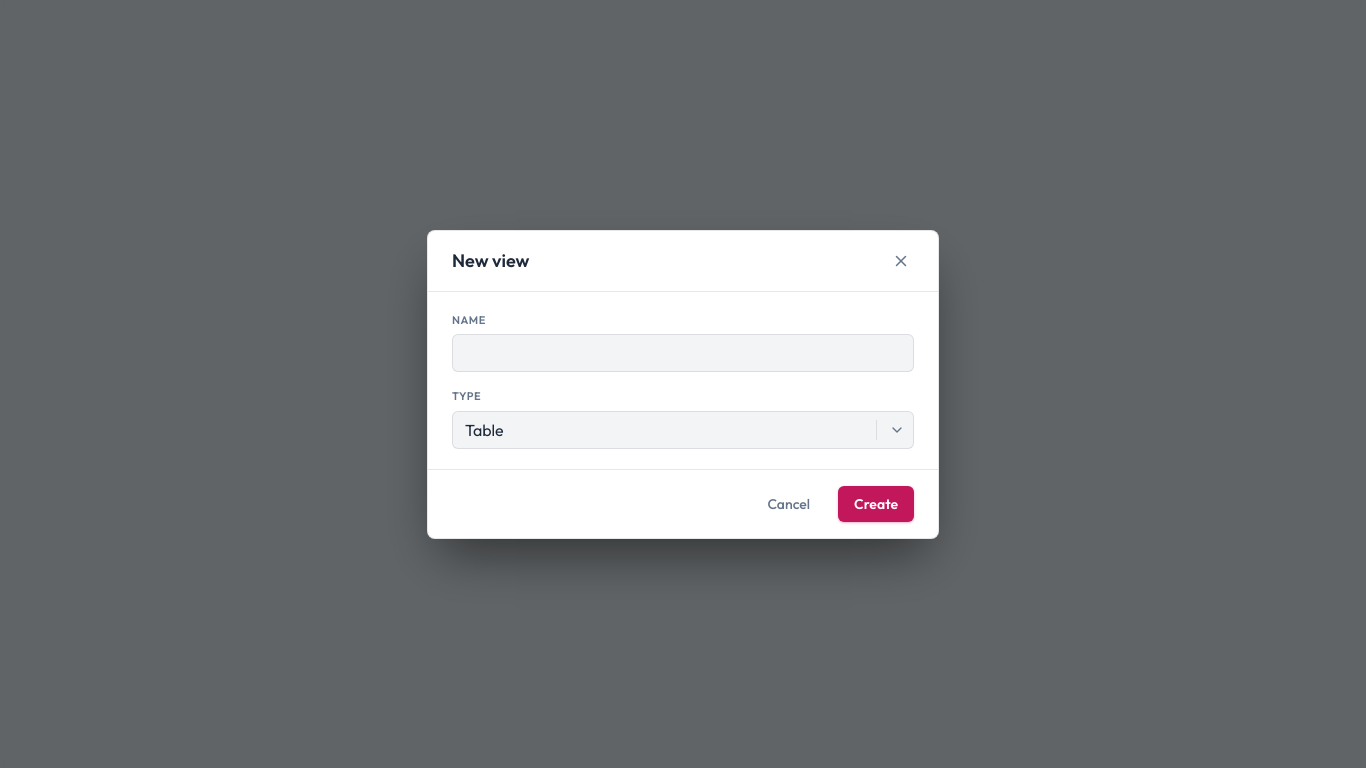
Scenario: ViewModal › requires the groupBy anchor on BOARD views and shows it inline
The image size is (1366, 768).
Type "Kanban" into the field labelled "Name" at (683, 353), box [452,334,914,372]
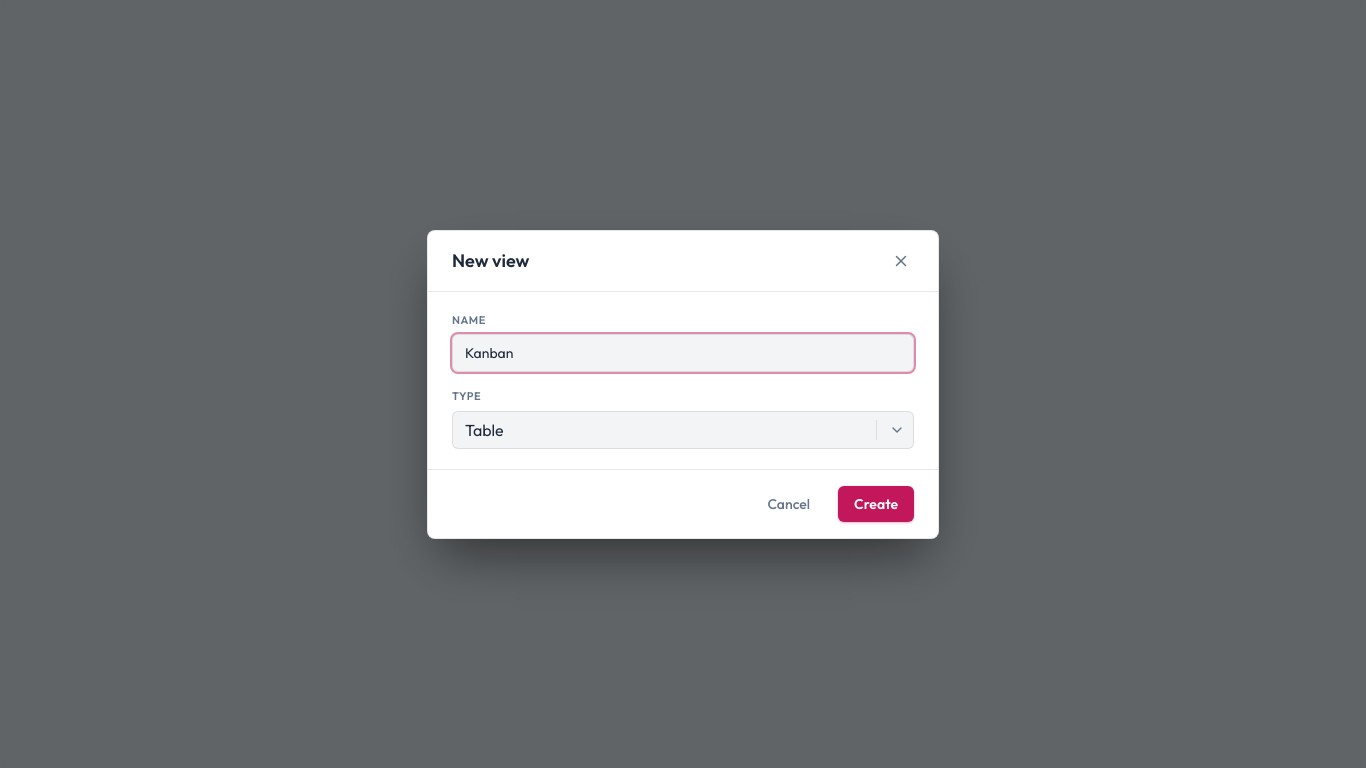
Click the dropdown at (467, 430), box [465,418,468,442]
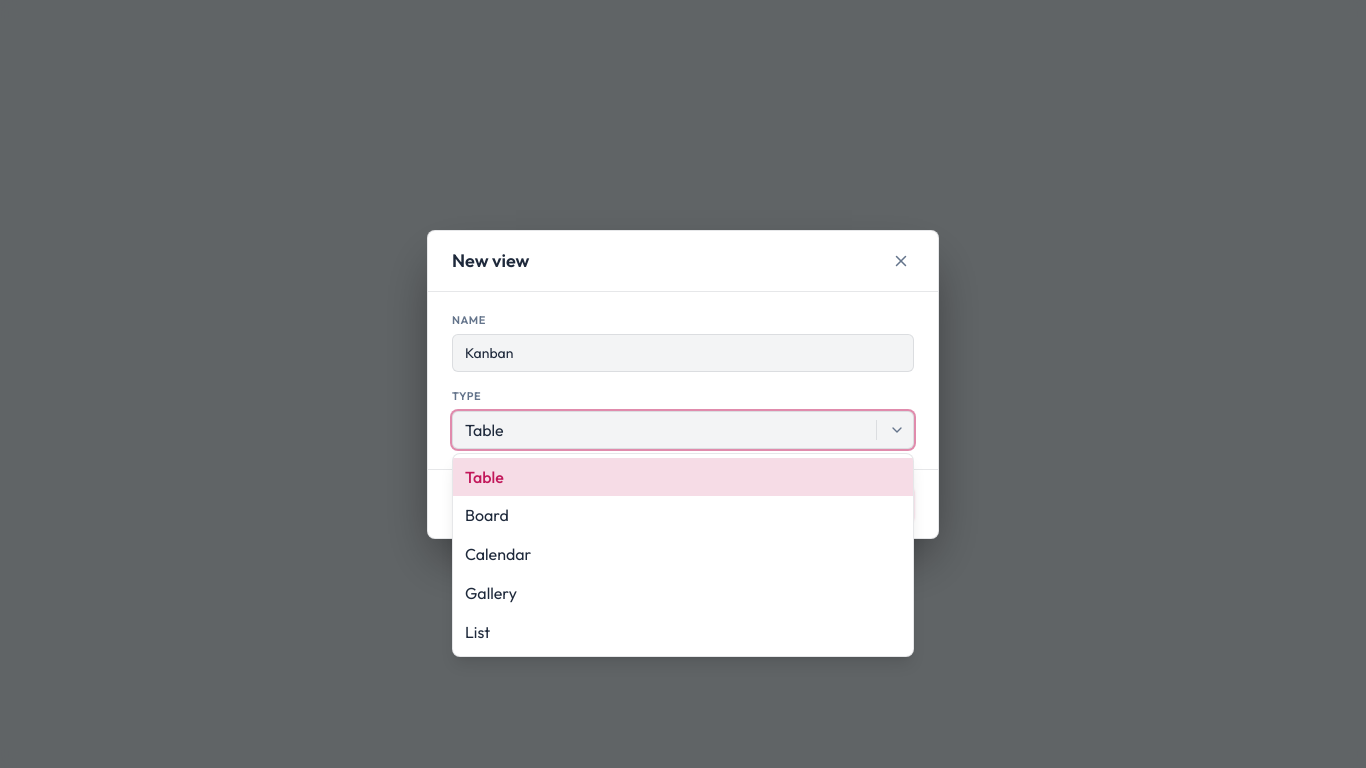
Click the option "Board" at (487, 515), box [465,505,509,525]
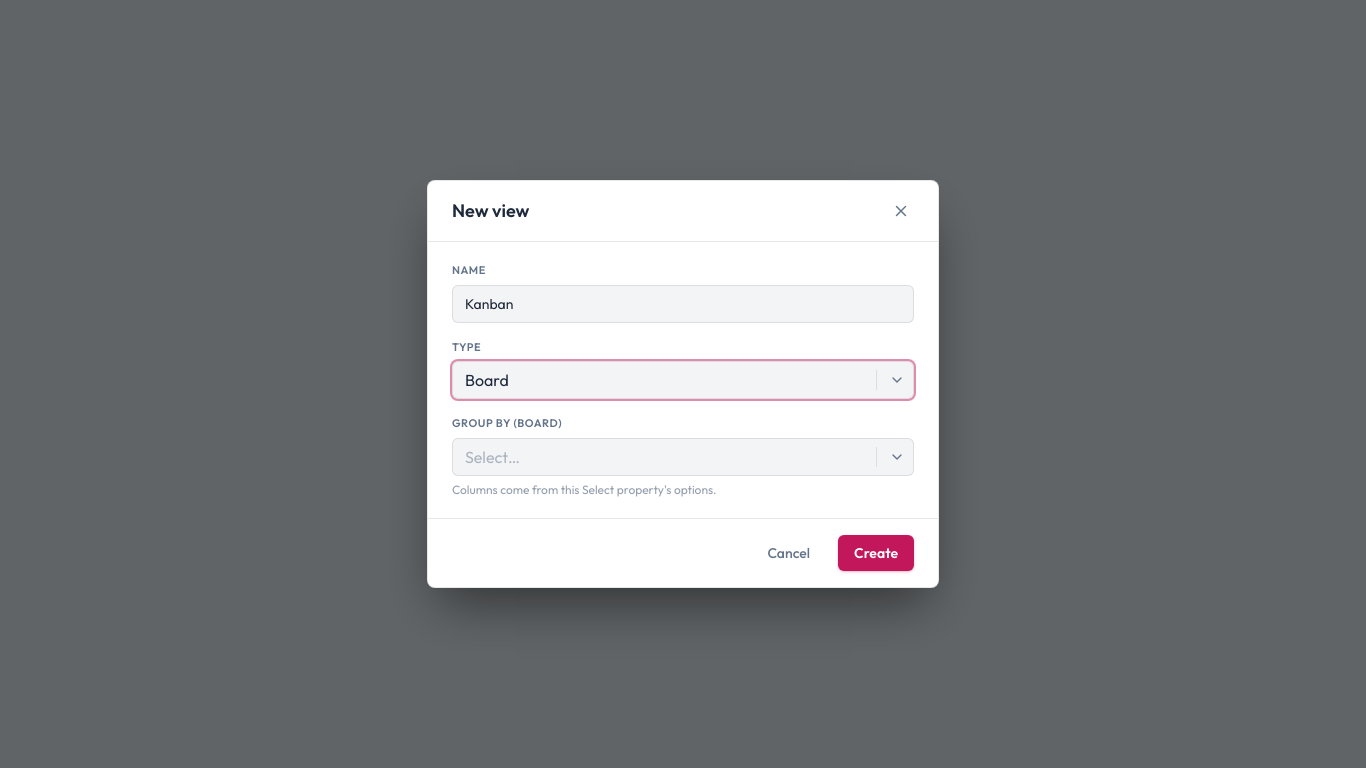
Result: the dropdown labelled "Group by (board)" is shown at [465,445,468,469]
Click the button "Create" at (876, 553), box [838,535,914,571]
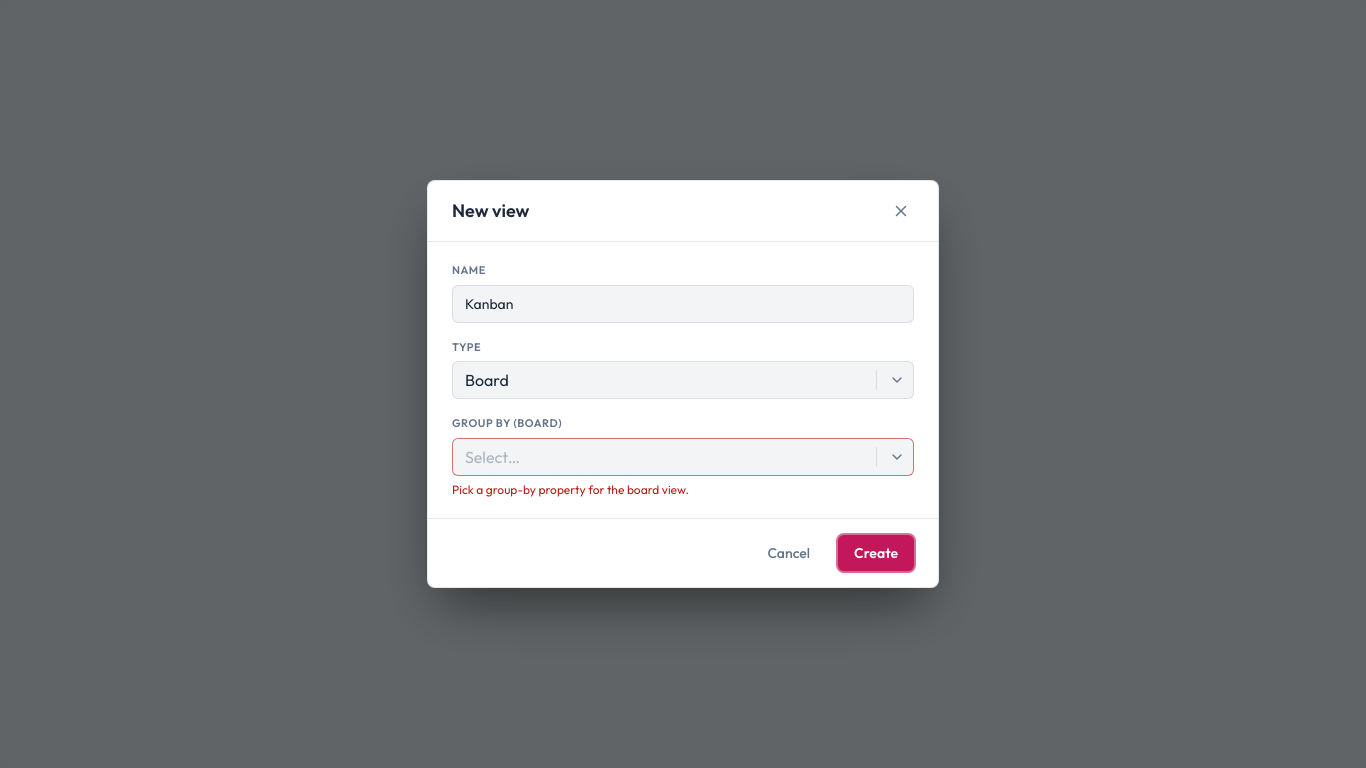
Result: the text "Pick a group-by property for the board view." is shown at [452,482,689,497]
